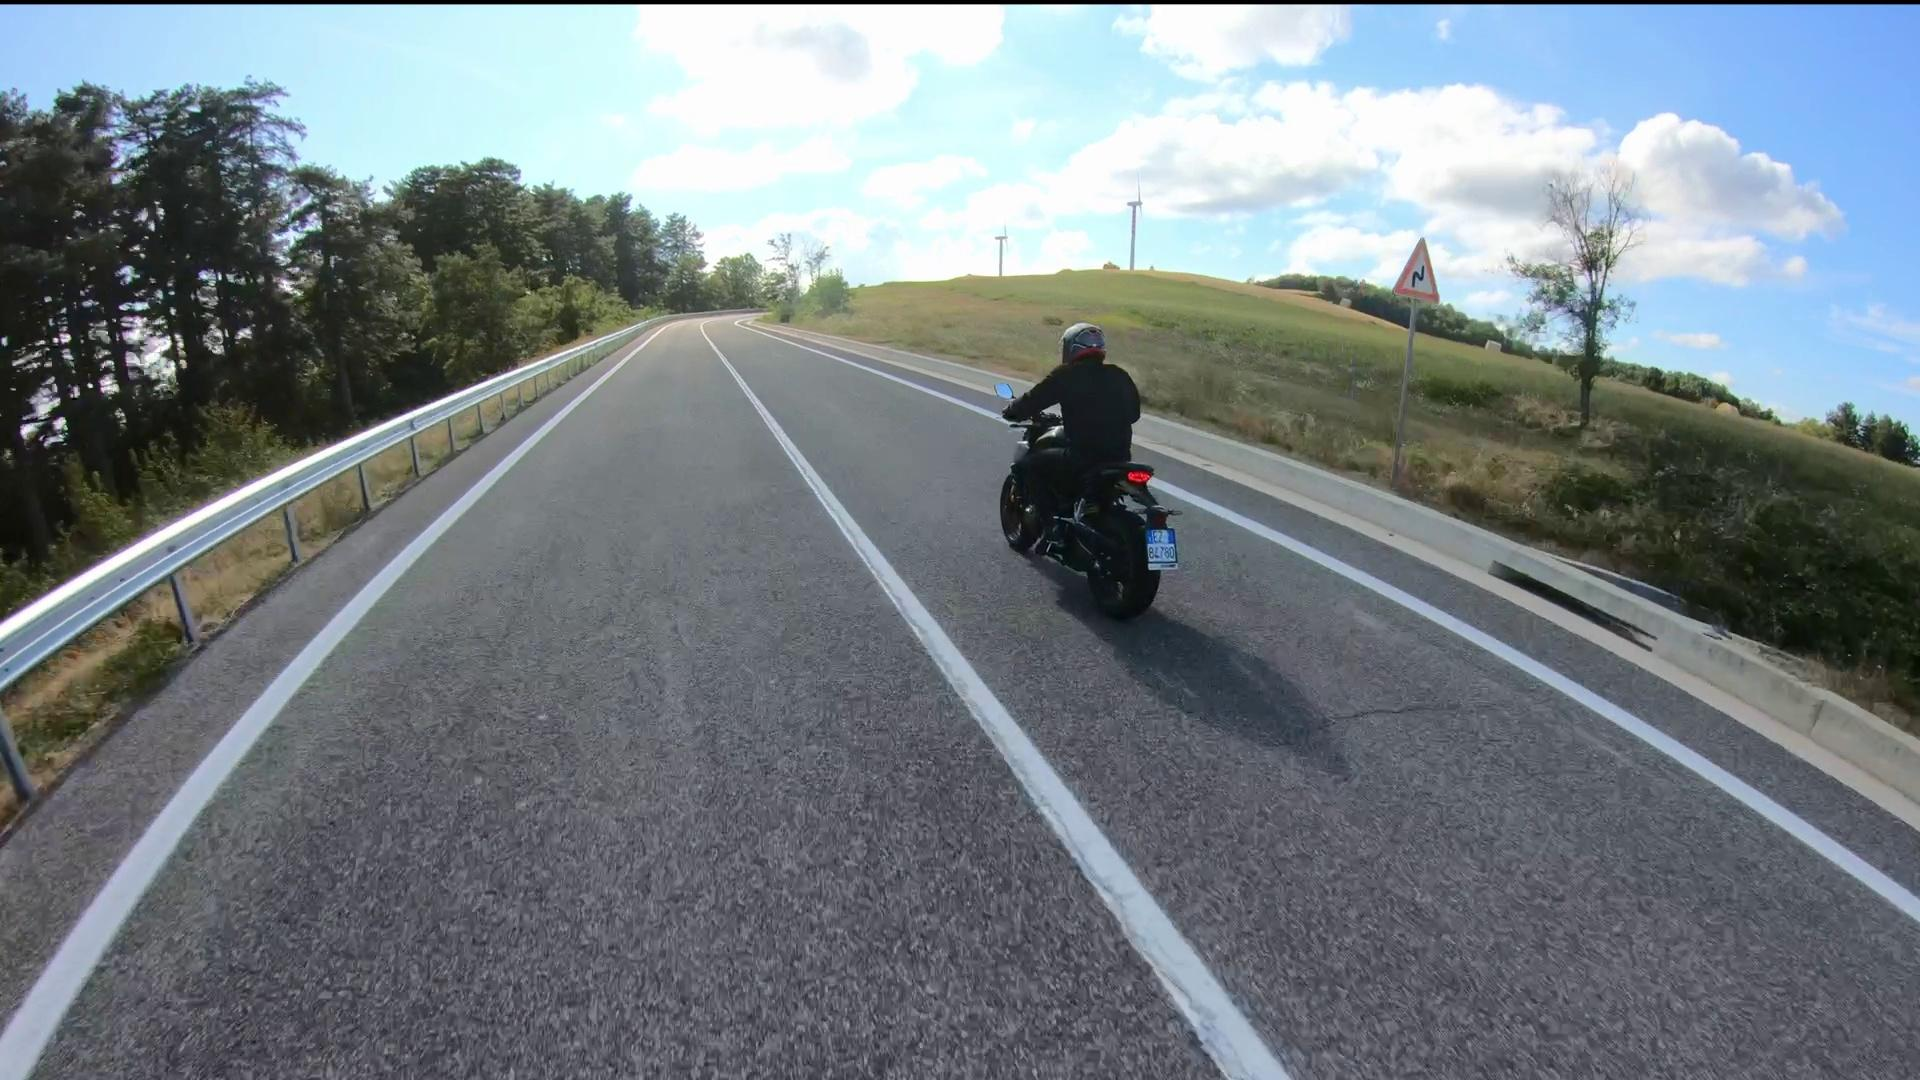cow: (993, 377, 1178, 633)
horse: (1005, 320, 1143, 570)
